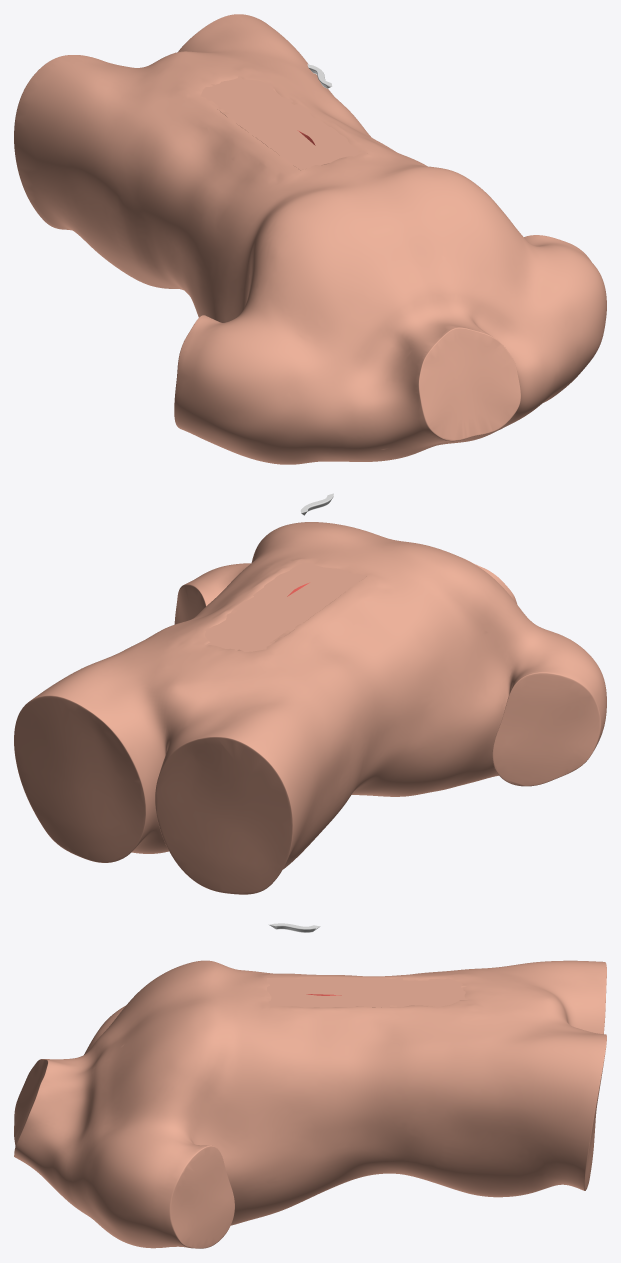
The model's file is herida_2_movimiento.fbx.
3 renders of one model, top to bottom at view 1: azimuth 30°, elevation 25°; view 2: azimuth 150°, elevation 25°; view 3: azimuth 270°, elevation 25°, orthographic. The views are drawn at different scales.
Parts seen in each view (by area): view 1: Cubo; view 2: Cubo; view 3: Cubo.
Part boxes in pixels (box(x1,y1,x2,y2)): Cubo: box(14, 14, 606, 464); Cubo: box(14, 522, 606, 894); Cubo: box(14, 960, 606, 1248).
Size of the model in its own units: 5882 by 3996 by 7880.
